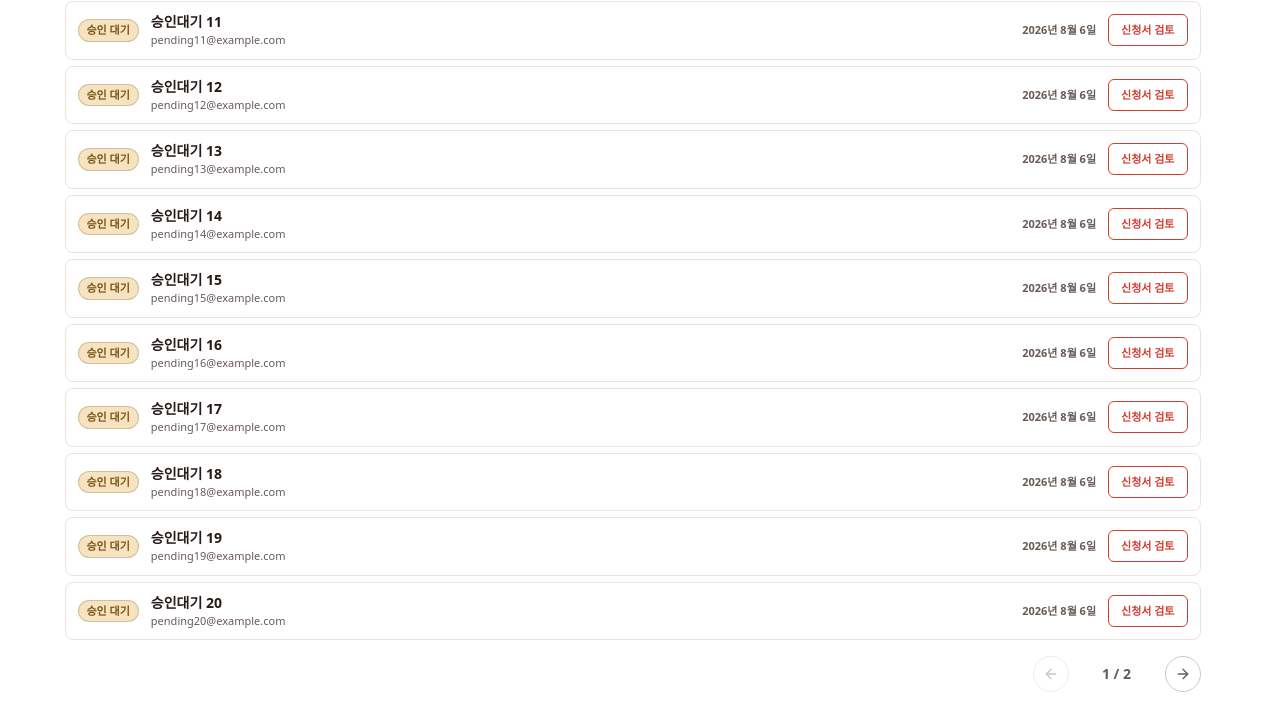
Test case: BuddyApplicationsDashboard › shows 20 approval requests per page and moves with arrows
(page scrolled)
Expected: the text "승인대기 21" is not shown
Step 1. Click the button named "다음 페이지" → coordinates (1182, 674), box 1164,656 -> 1200,692
(page scrolled)
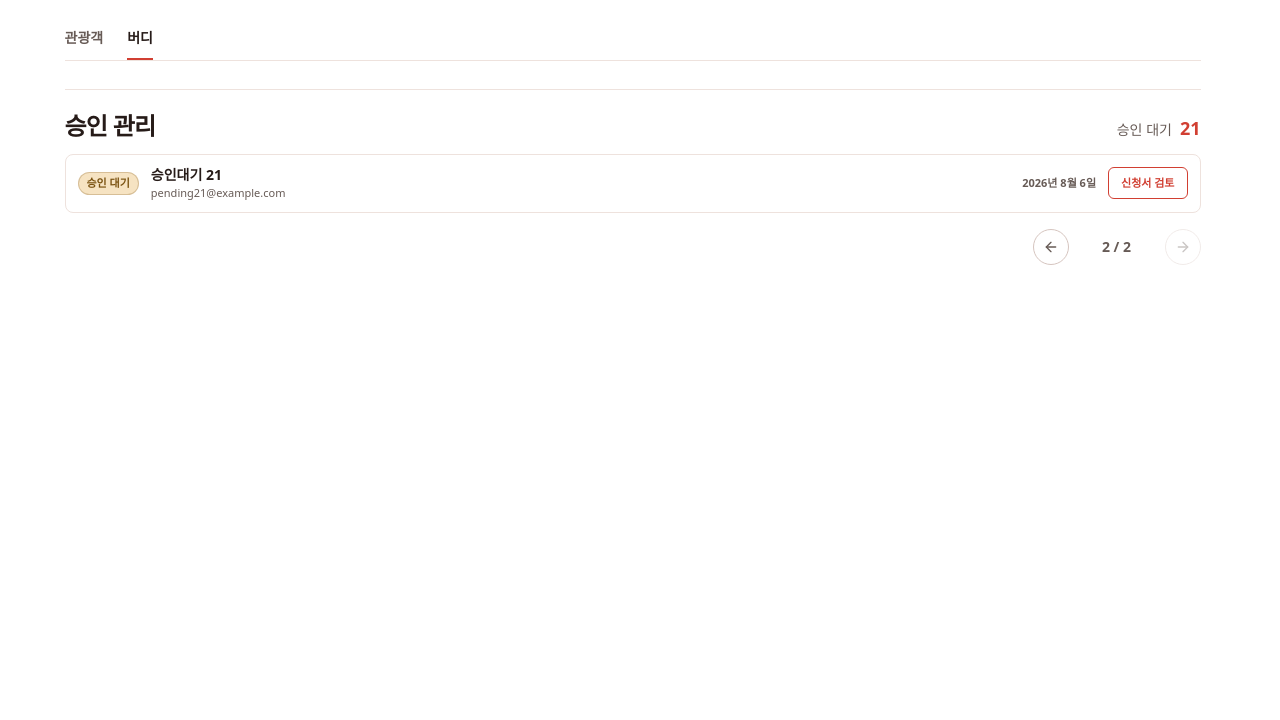
Expected: the text "승인대기 21" is shown, 151,165 -> 222,184
Expected: the text "승인대기 1" is gone
